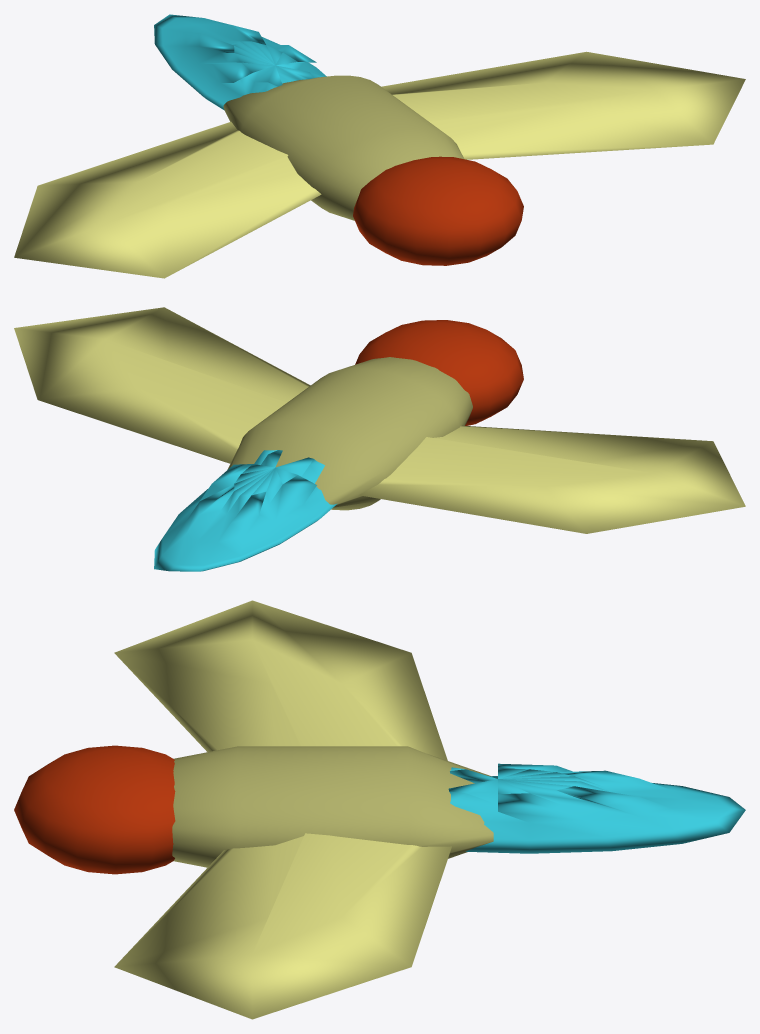
Rendered from bird_plane.obj.
The picture shows the model from 3 angles, top to bottom: view 1: azimuth 30°, elevation 25°; view 2: azimuth 150°, elevation 25°; view 3: azimuth 270°, elevation 25°; orthographic projection. The views are drawn at different scales.
Parts seen in each view (by area): view 1: cube4, cylinder1, sphere2, sphere2_copy3; view 2: cube4, cylinder1, sphere2_copy3, sphere2; view 3: cube4, cylinder1, sphere2_copy3, sphere2.
Part boxes in pixels (left/top/right/bottom): cube4: left=14, top=51, right=745, bottom=278; cylinder1: left=223, top=75, right=464, bottom=220; sphere2: left=353, top=156, right=523, bottom=265; sphere2_copy3: left=154, top=14, right=326, bottom=110; cube4: left=14, top=307, right=745, bottom=533; cylinder1: left=227, top=357, right=472, bottom=510; sphere2_copy3: left=154, top=450, right=337, bottom=571; sphere2: left=355, top=320, right=523, bottom=425; cube4: left=114, top=600, right=451, bottom=1019; cylinder1: left=172, top=746, right=493, bottom=867; sphere2_copy3: left=448, top=763, right=745, bottom=853; sphere2: left=14, top=745, right=175, bottom=874.
Bounding box in the file's own units: 9.8 × 1.05 × 7.23.
